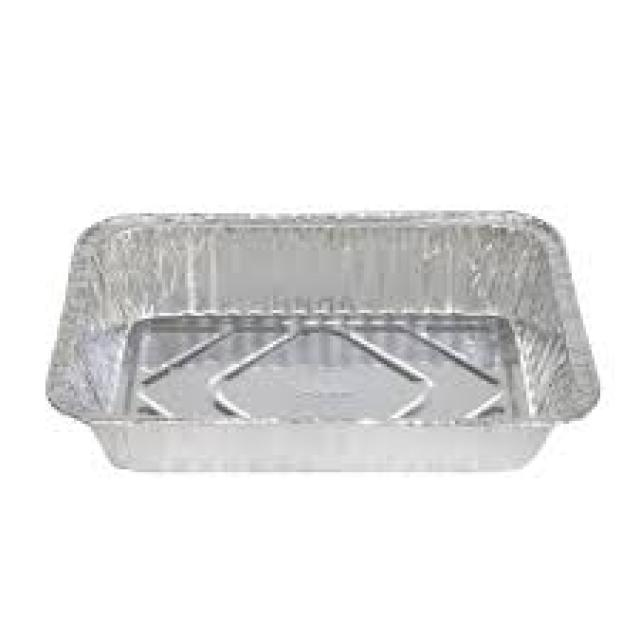metal: (49, 214, 597, 469)
